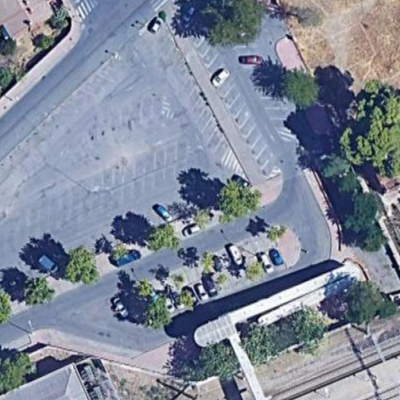tree: (342, 87, 400, 181), (204, 2, 270, 51), (340, 192, 388, 248), (286, 306, 334, 359), (184, 341, 244, 382), (344, 279, 393, 329), (277, 66, 328, 112), (236, 318, 280, 366), (217, 177, 266, 219), (61, 246, 103, 287), (314, 150, 357, 185), (1, 347, 35, 391), (18, 276, 60, 310), (142, 222, 182, 250), (142, 297, 173, 327), (191, 205, 216, 233), (265, 222, 293, 244), (243, 259, 265, 283), (109, 237, 128, 259)
